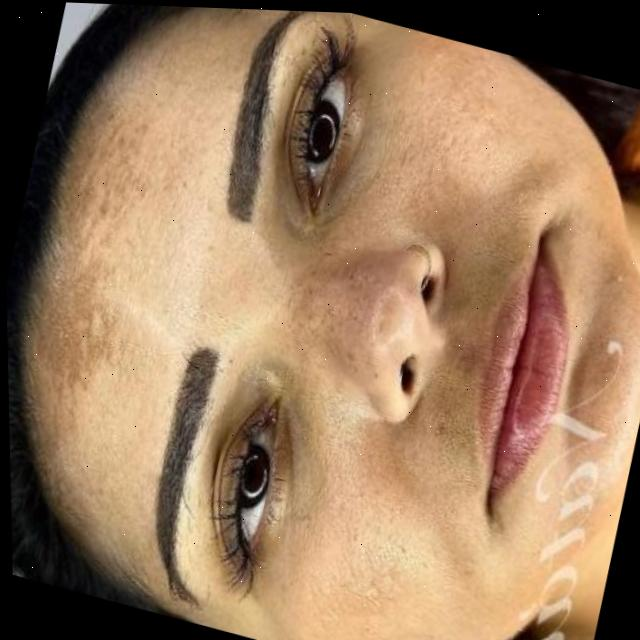Melasma: (21, 129, 168, 387), (310, 240, 407, 377)
